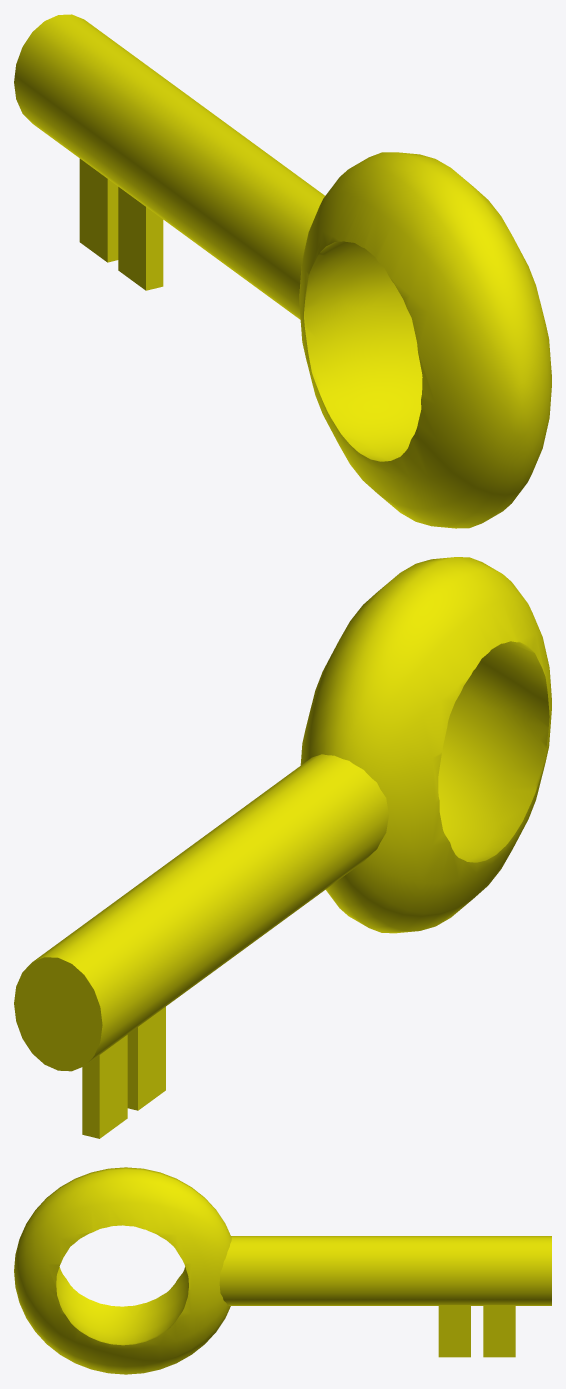
Rendered from Key.fbx.
3 renders of one model, top to bottom at view 1: azimuth 30°, elevation 25°; view 2: azimuth 150°, elevation 25°; view 3: azimuth 270°, elevation 25°, orthographic. The views are drawn at different scales.
Parts seen in each view (by area): view 1: Toy_Key; view 2: Toy_Key; view 3: Toy_Key.
Boxes of the visible parts, x1,y1,x2,y2 form: Toy_Key: [14, 14, 551, 528]; Toy_Key: [14, 557, 551, 1138]; Toy_Key: [14, 1167, 551, 1374].
Bounding box in the file's own units: 0.6551 × 1.59 × 3.81.
